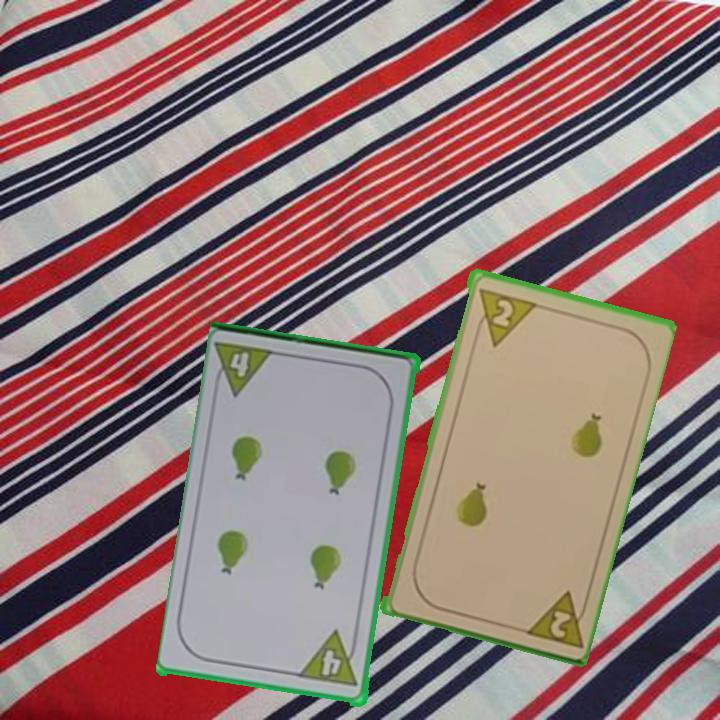2p: (518, 586, 592, 650), (472, 283, 537, 349)
4p: (297, 629, 346, 681), (227, 349, 252, 381)
